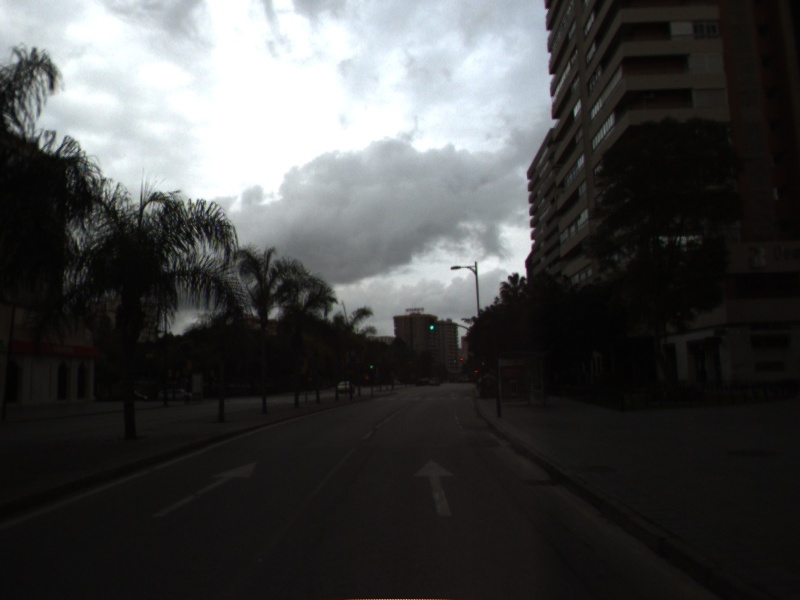STRAIGHT: (149, 458, 261, 521), (411, 456, 460, 519)
